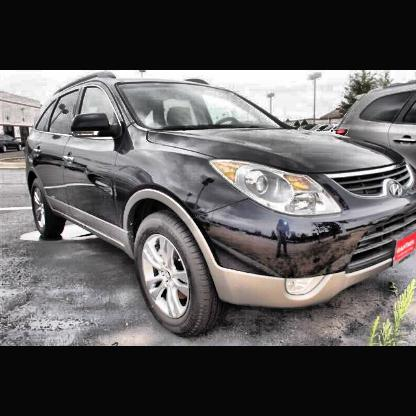Hyundai Veracruz SUV 2012: (25, 72, 416, 339)
